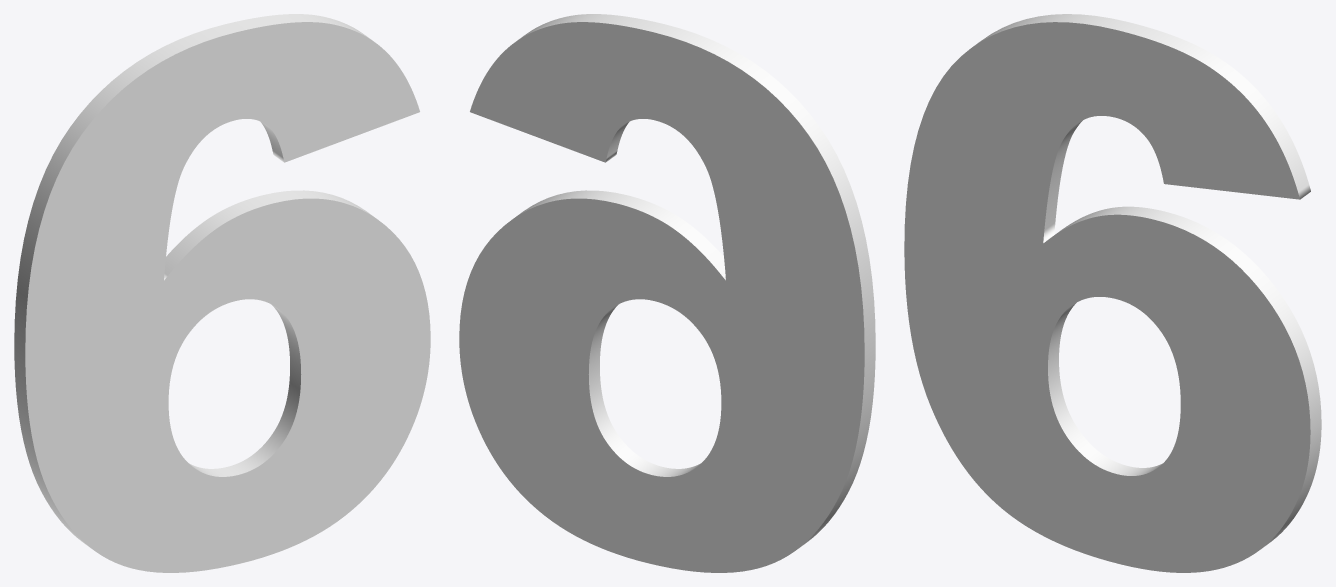
3 views of the same model, side by side, from view 1: azimuth 30°, elevation 25°; view 2: azimuth 150°, elevation 25°; view 3: azimuth 330°, elevation 25° (orthographic).
Visible parts, largest first — view 1: テキスト; view 2: テキスト; view 3: テキスト.
Part boxes in pixels (x1,y1,x2,y2): テキスト: (14,14,430,572); テキスト: (459,14,875,572); テキスト: (904,14,1321,572).
Bounding box in the file's own units: 0.4243 × 0.5325 × 0.02.
